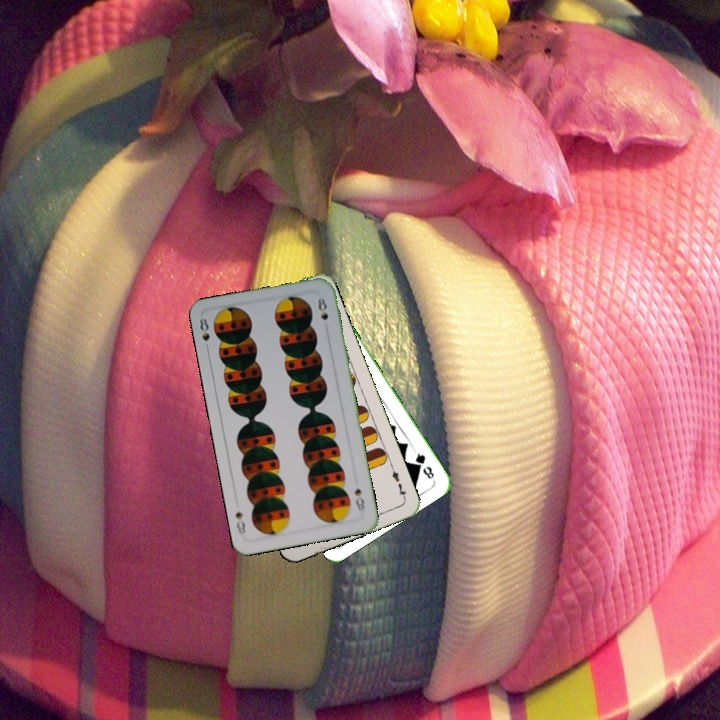E7: (387, 463, 408, 502)
G8: (410, 446, 437, 482)
S8: (196, 314, 212, 354), (351, 484, 367, 513)
